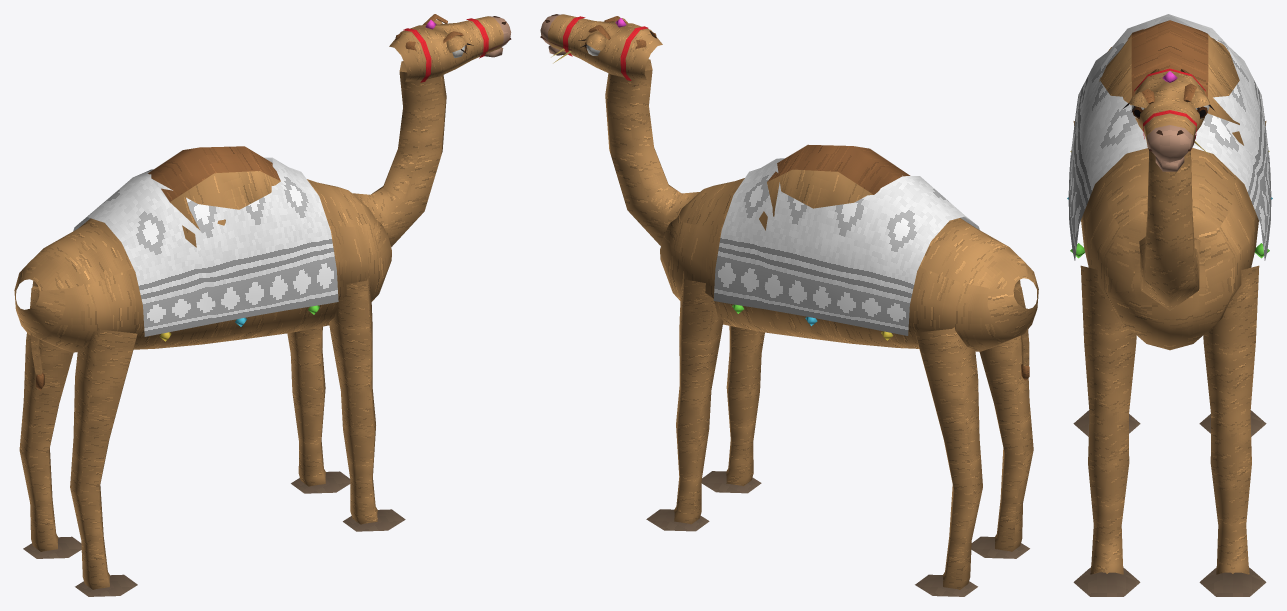
Rendered from p_camel.glb.
3 views of the same model, side by side, from view 1: azimuth 30°, elevation 25°; view 2: azimuth 150°, elevation 25°; view 3: azimuth 270°, elevation 25° (orthographic). The views are drawn at different scales.
Visible parts, largest first — view 1: p_camel_lod0; view 2: p_camel_lod0; view 3: p_camel_lod0.
Part boxes in pixels (box(x1,y1,x2,y2)): p_camel_lod0: box(14, 14, 511, 596); p_camel_lod0: box(540, 14, 1038, 596); p_camel_lod0: box(1067, 14, 1272, 596).
Size of what is drawn, in the model's own units: 3.62 by 3.35 by 1.09.
Materials: 2 (2 with a texture image).
